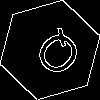Q: (25, 25, 87, 87)
